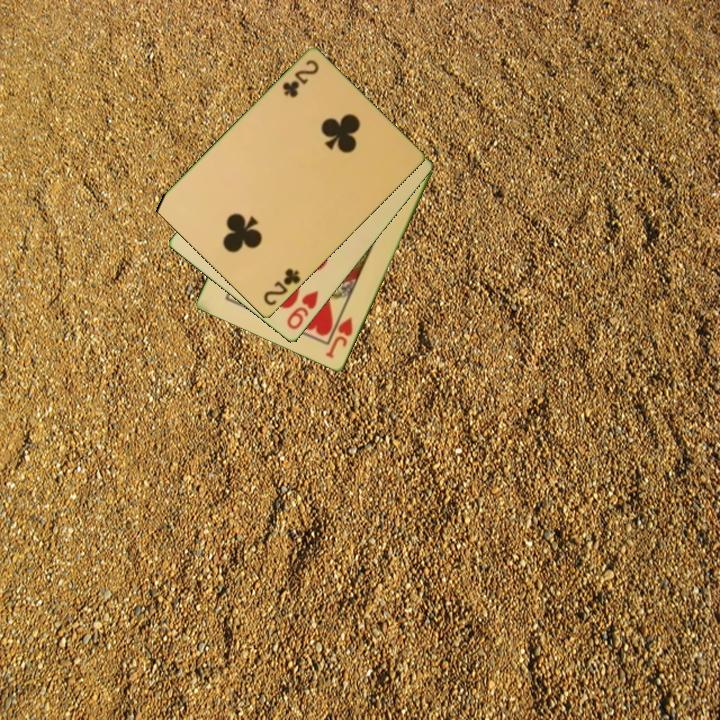2c: (260, 265, 304, 309), (279, 56, 322, 101)
9h: (283, 287, 322, 333)
Jh: (322, 314, 356, 362)
